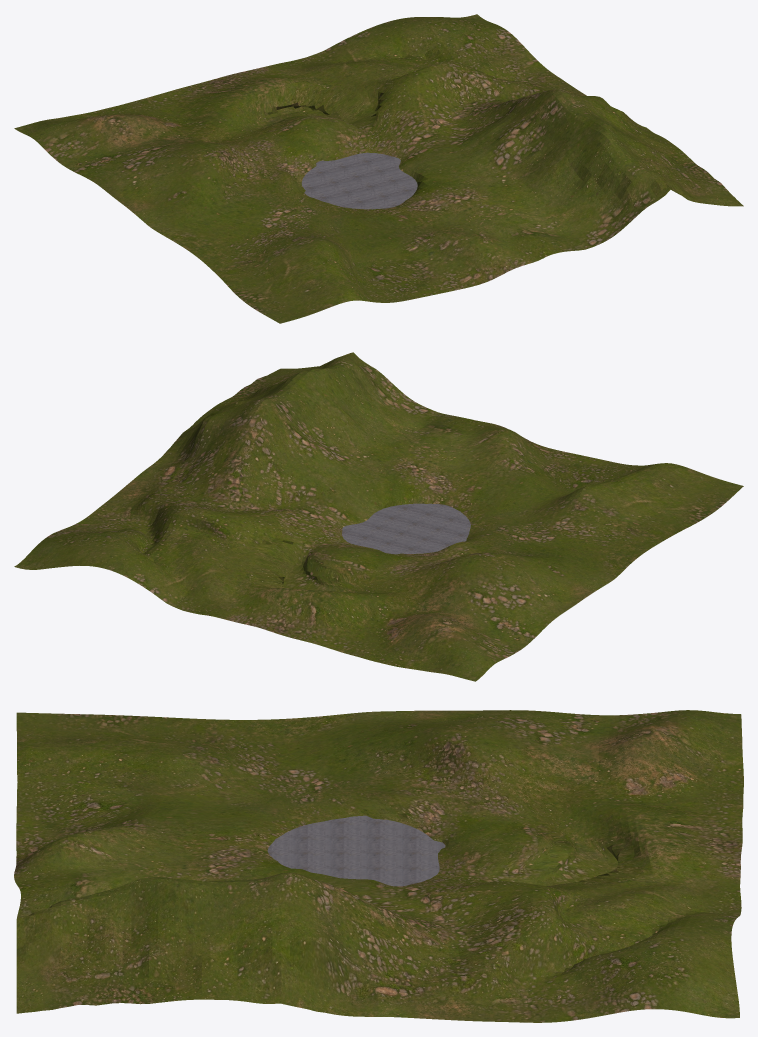
File: floor.glb
3 renders of one model, top to bottom at view 1: azimuth 30°, elevation 25°; view 2: azimuth 150°, elevation 25°; view 3: azimuth 270°, elevation 25°, orthographic. The views are drawn at different scales.
Visible parts, largest first — view 1: Environment; view 2: Environment; view 3: Environment.
Boxes of the visible parts, left/top/right/bottom form: Environment: left=14, top=14, right=743, bottom=323; Environment: left=14, top=352, right=743, bottom=681; Environment: left=14, top=710, right=743, bottom=1022.
Bounding box in the file's own units: 40.36 × 6.43 × 40.39.
2 materials, 2 textured.
